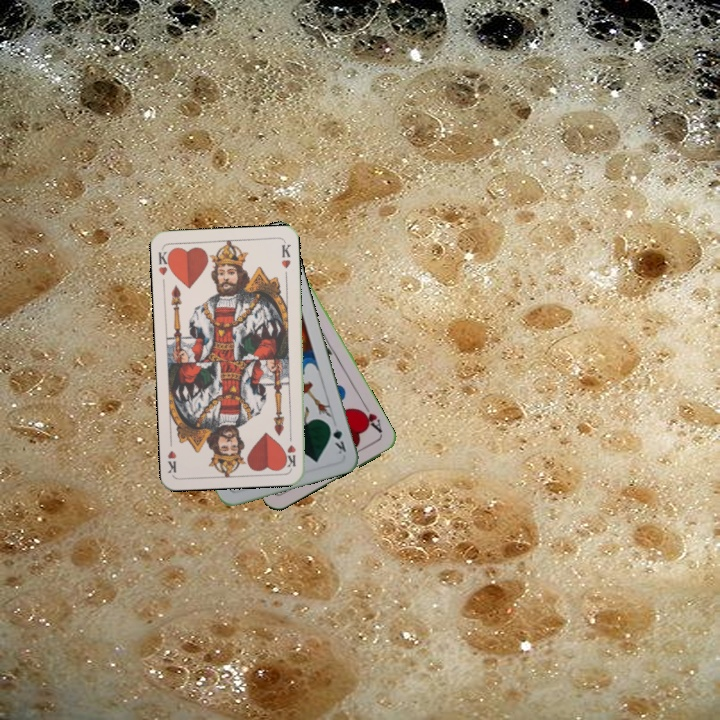GK: (324, 419, 349, 457)
HA: (355, 399, 385, 437)
HK: (283, 429, 299, 469), (155, 245, 174, 278)
